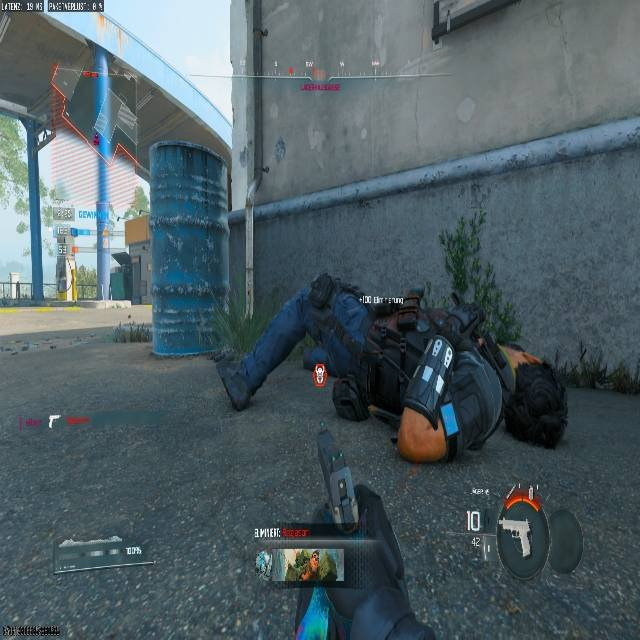head: (503, 375, 569, 450)
